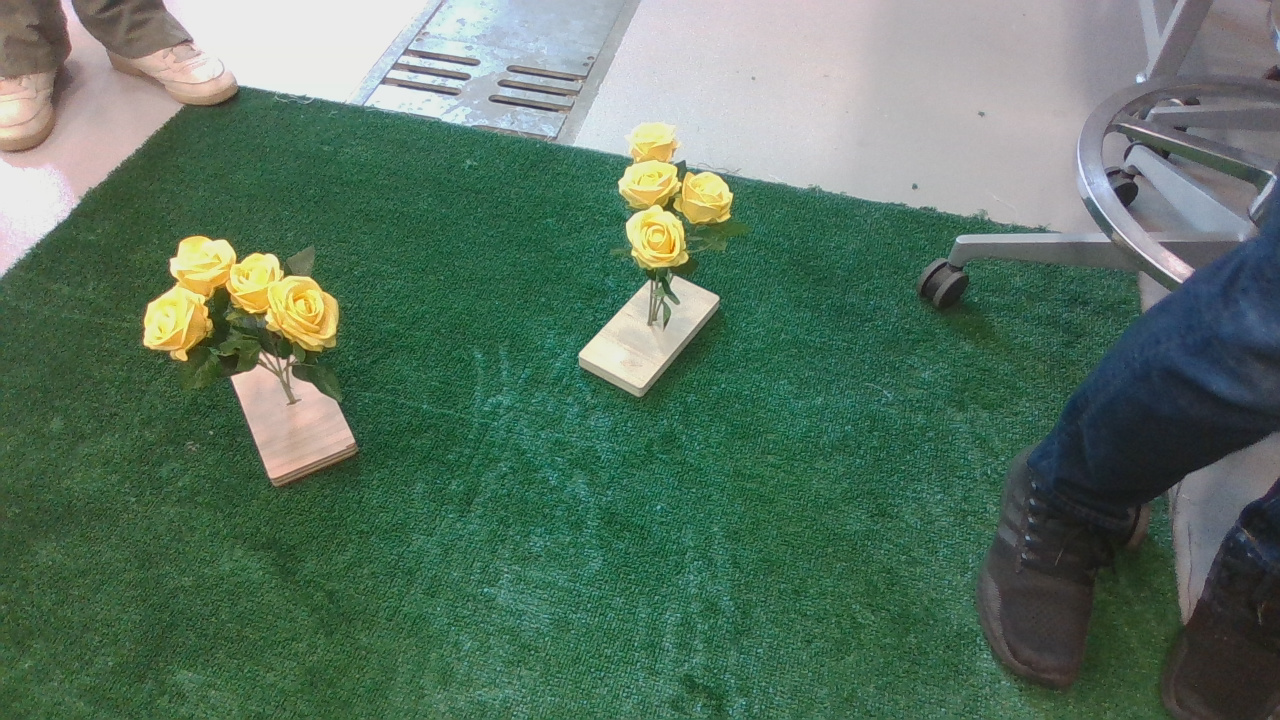rose: (142, 227, 361, 428), (611, 123, 748, 329)
